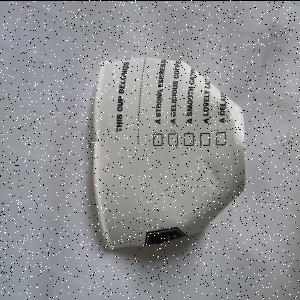Cup: (93, 55, 248, 251)
